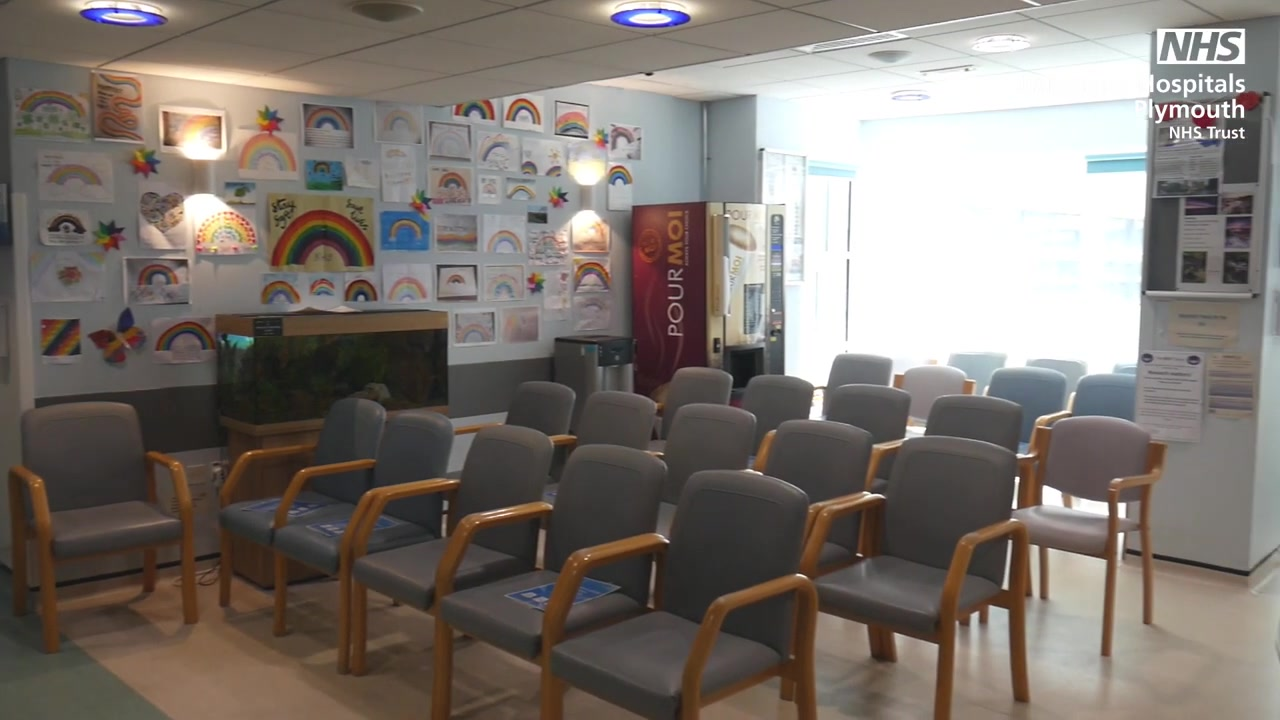chair: (541, 470, 818, 720), (798, 436, 1030, 720), (431, 444, 669, 720), (349, 425, 554, 720), (1, 403, 198, 652), (273, 409, 454, 675), (978, 415, 1167, 655), (849, 395, 1026, 627), (217, 396, 385, 607), (763, 420, 873, 700), (652, 403, 756, 562), (540, 390, 657, 530), (443, 381, 577, 502), (825, 384, 910, 555), (971, 366, 1069, 512), (1034, 373, 1136, 509), (650, 367, 733, 460), (740, 374, 814, 469), (809, 353, 895, 423), (898, 365, 971, 435), (1026, 359, 1089, 411), (947, 350, 1006, 395)
counter: (213, 308, 451, 460)
